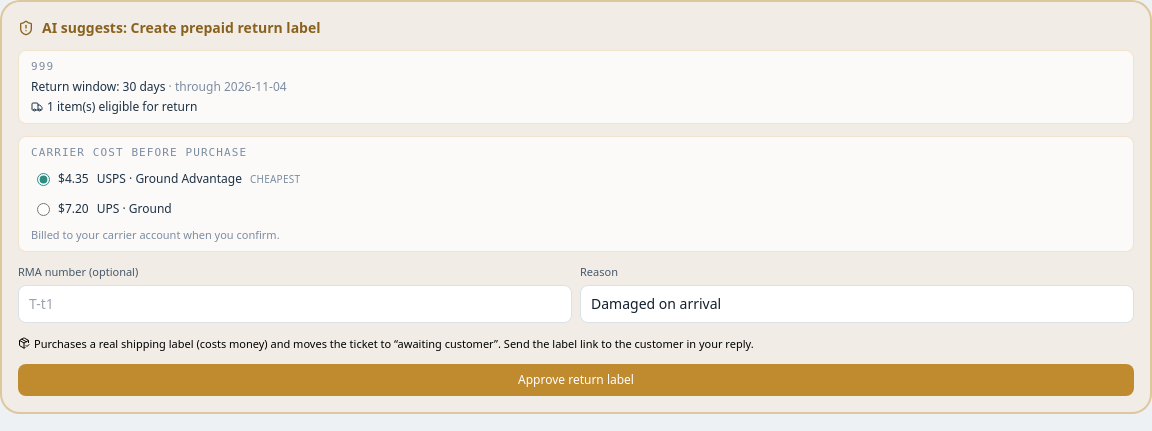
it: ReturnApprovalPanel › shows live carrier costs before approval and defaults to the cheapest rate
The image size is (1152, 431).
Expected: the text "Carrier cost before purchase" is shown, [31,146,247,159]
Expected: the text "$4.35" is shown, [58,171,89,187]
What coordinates should you click on to do the following:
click the button "Approve return label"
I would click on:
 (576, 380)
Its box is [18,364,1134,396].
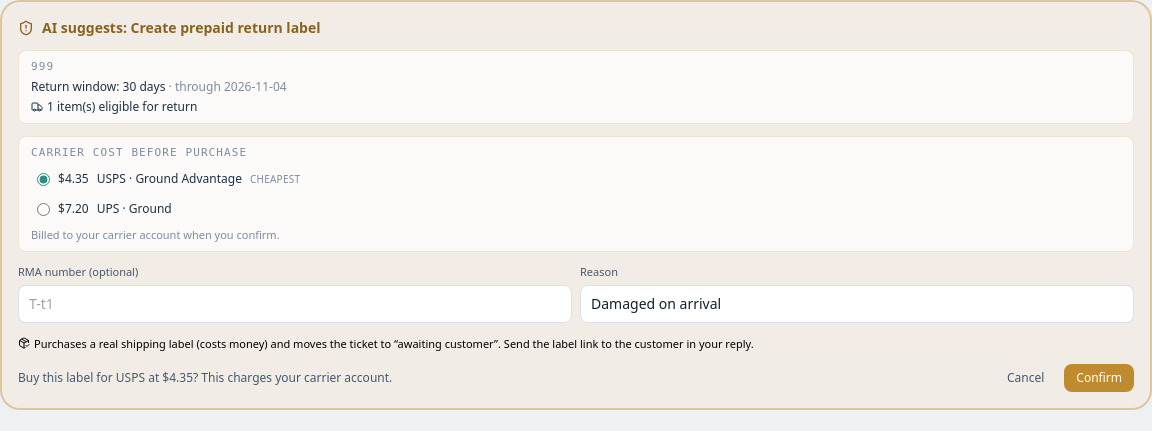
Now the text "Buy this label for USPS at $4.35" is shown, box [18,369,392,386]
